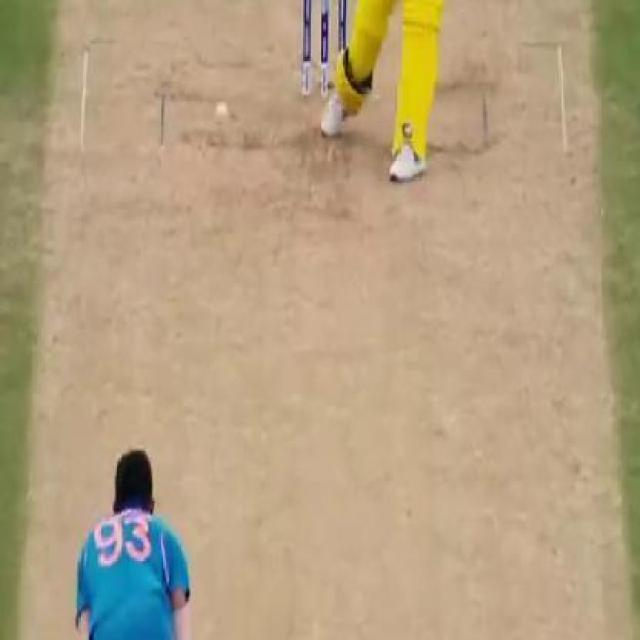Cricket ball: (213, 101, 231, 123)
